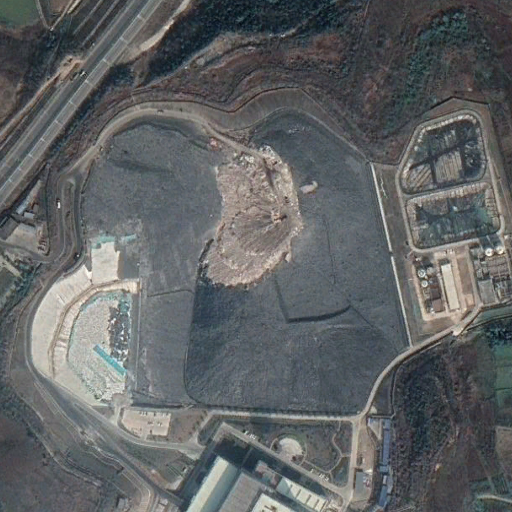lf: (25, 88, 413, 423)
